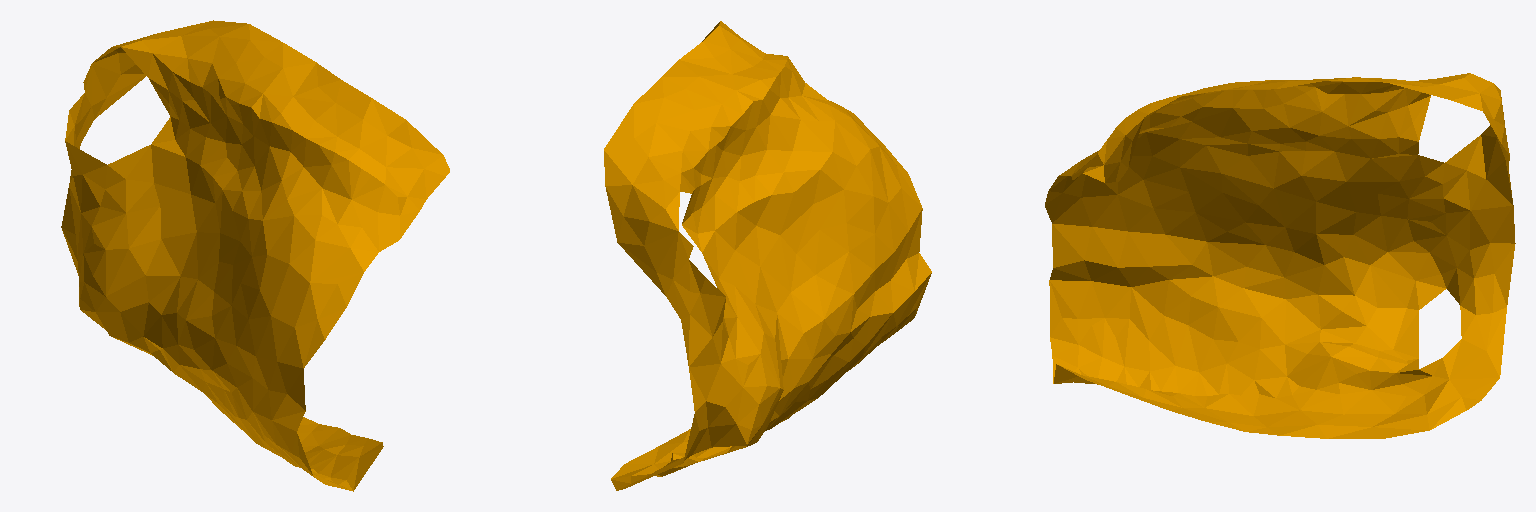
URDF robot description (init):
<?xml version='1.0' encoding='utf-8'?>
<robot name="init">
<link name="link_0"><inertial><mass value="1.0" /><origin rpy="0 0 0" xyz="0.000000 0.000000 0.000000" /><inertia ixx="1.0" ixy="0.0" ixz="0.0" iyy="1.0" iyz="0.0" izz="1.0" /></inertial><visual><origin rpy="0 0 0" xyz="0.000000 0.000000 0.000000" /><geometry><mesh filename="./clothHuman/cloth/2593.obj" /></geometry></visual><collision><origin rpy="0 0 0" xyz="0.000000 0.000000 0.000000" /><geometry><mesh filename="./clothHuman/cloth/2593.obj" /></geometry></collision></link></robot>

--- Facts derived from the render (not from the file) ---
The picture shows the robot from 3 angles, left to right: view 1: azimuth 30°, elevation 25°; view 2: azimuth 150°, elevation 25°; view 3: azimuth 270°, elevation 25°; orthographic projection.
Model init with 1 links and 0 joints (none), rooted at link_0, posed all joints at 0.
Links seen in each view (by area): view 1: link_0; view 2: link_0; view 3: link_0.
Link boxes in pixels (box(x1,y1,x2,y2)): link_0: box(61, 20, 449, 491); link_0: box(604, 21, 931, 490); link_0: box(1045, 73, 1515, 438).
Size in the robot's own frame: 1.96 by 3.78 by 3.17 metres.
Meshes: 1 distinct files referenced, 1 mesh visuals loaded (1 OBJ).